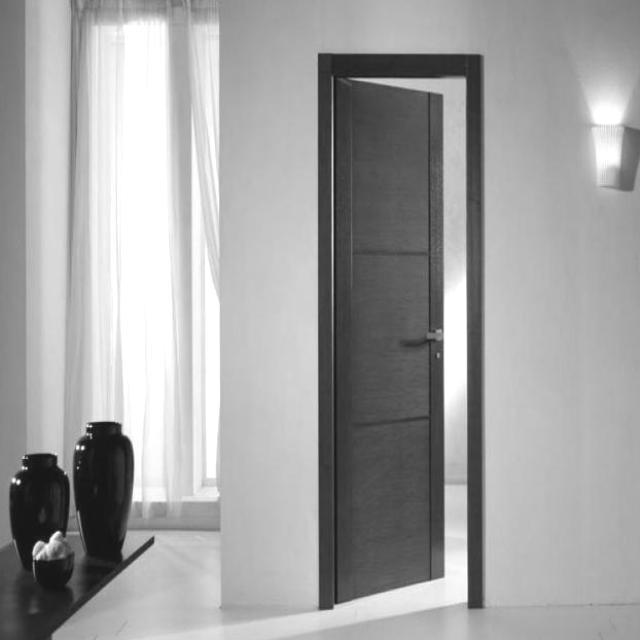door: (331, 73, 445, 605)
